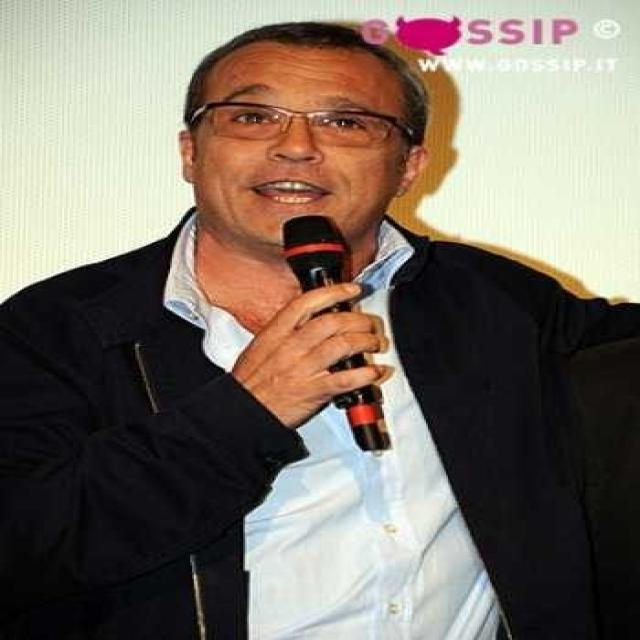microphone: (277, 213, 392, 451)
